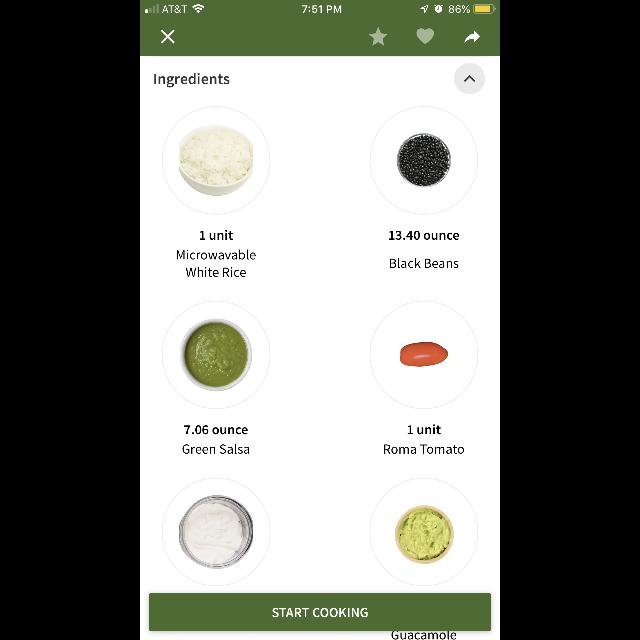icon: (454, 64, 486, 95), (368, 28, 388, 46), (416, 29, 434, 45), (464, 31, 480, 44), (161, 30, 175, 44)
image: (162, 300, 272, 410), (369, 300, 478, 410), (369, 107, 478, 216), (162, 107, 270, 216), (369, 478, 478, 586), (162, 478, 270, 586)
text: (177, 250, 256, 276), (154, 74, 230, 88), (384, 444, 464, 454), (389, 230, 459, 240), (390, 258, 458, 268), (182, 444, 250, 454), (184, 426, 248, 434), (392, 632, 456, 640), (200, 230, 233, 240), (408, 424, 440, 434)
textbutton: (149, 593, 491, 631)
uppertaskbar: (140, 0, 500, 14)
